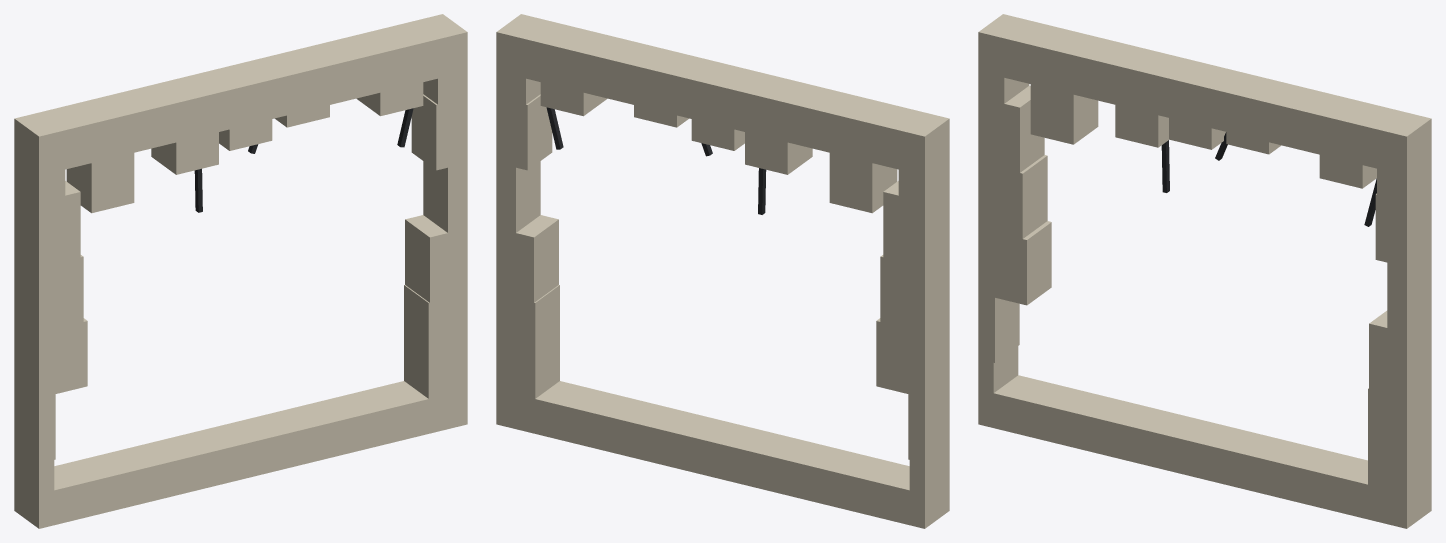
File: co_holeo.glb
3 views of the same model, side by side, from view 1: azimuth 30°, elevation 25°; view 2: azimuth 150°, elevation 25°; view 3: azimuth 330°, elevation 25° (orthographic).
Visible parts, largest first — view 1: city_co_holeo; view 2: city_co_holeo; view 3: city_co_holeo.
Part boxes in pixels (x1=…): city_co_holeo: x1=14, y1=14, x2=467, y2=528; city_co_holeo: x1=496, y1=14, x2=949, y2=528; city_co_holeo: x1=978, y1=14, x2=1431, y2=528.
Size of the model in its own units: 4 by 3.5 by 0.4.
2 materials, 2 textured.
